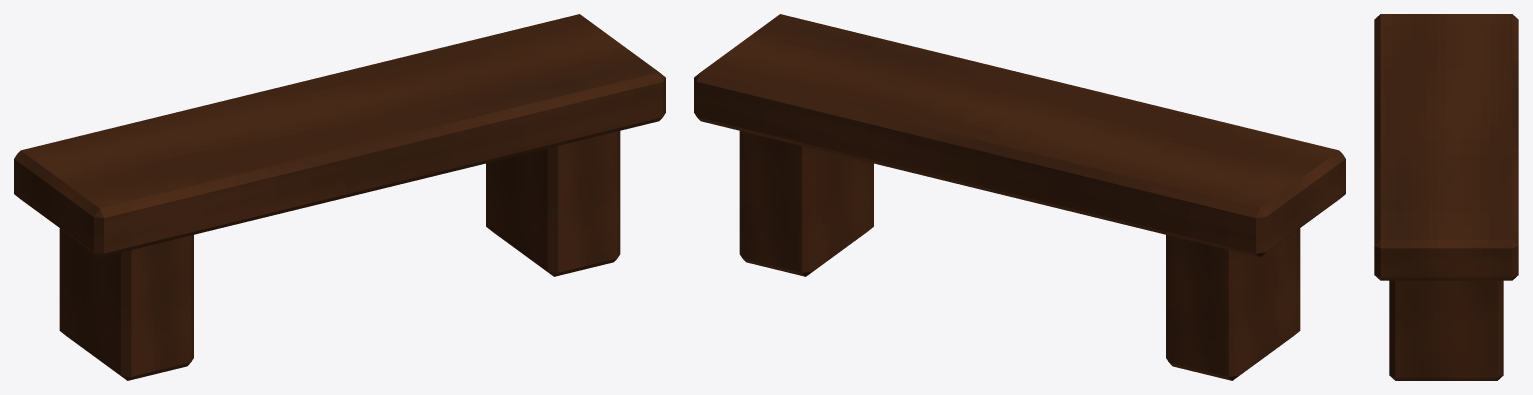
Rendered from WoodBench.glb.
The picture shows the model from 3 angles, left to right: view 1: azimuth 30°, elevation 25°; view 2: azimuth 150°, elevation 25°; view 3: azimuth 270°, elevation 25°; orthographic projection. The views are drawn at different scales.
Visible parts, largest first — view 1: Seat, Leg-0.82, Leg0.82; view 2: Seat, Leg-0.82, Leg0.82; view 3: Seat, Leg0.82.
Part boxes in pixels (bbox=[...]): Seat: bbox=[14, 14, 665, 257]; Leg-0.82: bbox=[59, 228, 193, 380]; Leg0.82: bbox=[486, 131, 620, 276]; Seat: bbox=[694, 14, 1345, 257]; Leg-0.82: bbox=[1166, 228, 1300, 380]; Leg0.82: bbox=[739, 131, 873, 276]; Seat: bbox=[1374, 14, 1518, 280]; Leg0.82: bbox=[1389, 280, 1503, 380].
Size of the model in its own units: 2.2 by 0.69 by 0.58.
Materials: 1 (1 with a texture image).
